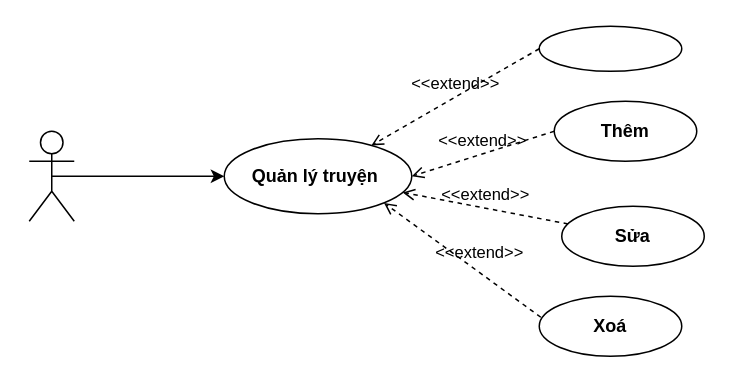
This 731x383 diagram has some shape labels left out. Here are the shapes that lost their labels. From the top down, the centre of each, then its label:
At pixel 610 48: "Tìm kiếm".
At pixel 51 175: "Admin".
